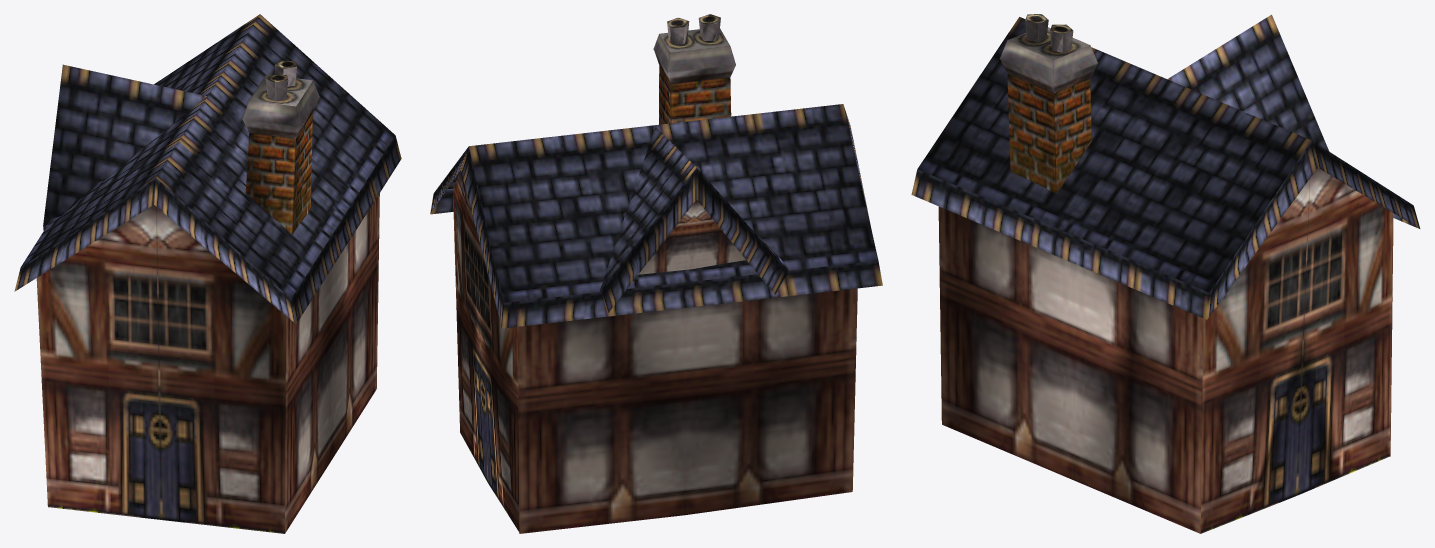
Rendered from townBuilding.obj.
3 views of the same model, side by side, from view 1: azimuth 30°, elevation 25°; view 2: azimuth 150°, elevation 25°; view 3: azimuth 270°, elevation 25° (orthographic). The views are drawn at different scales.
Visible parts, largest first — view 1: Converted_object_1(m0); view 2: Converted_object_1(m0); view 3: Converted_object_1(m0).
Part boxes in pixels (left/top/right/bottom): Converted_object_1(m0): left=14, top=14, right=401, bottom=533; Converted_object_1(m0): left=430, top=14, right=882, bottom=533; Converted_object_1(m0): left=911, top=14, right=1420, bottom=533.
Bounding box in the file's own units: 9.26 × 8.55 × 9.26.
Materials: 1 (1 with a texture image).
